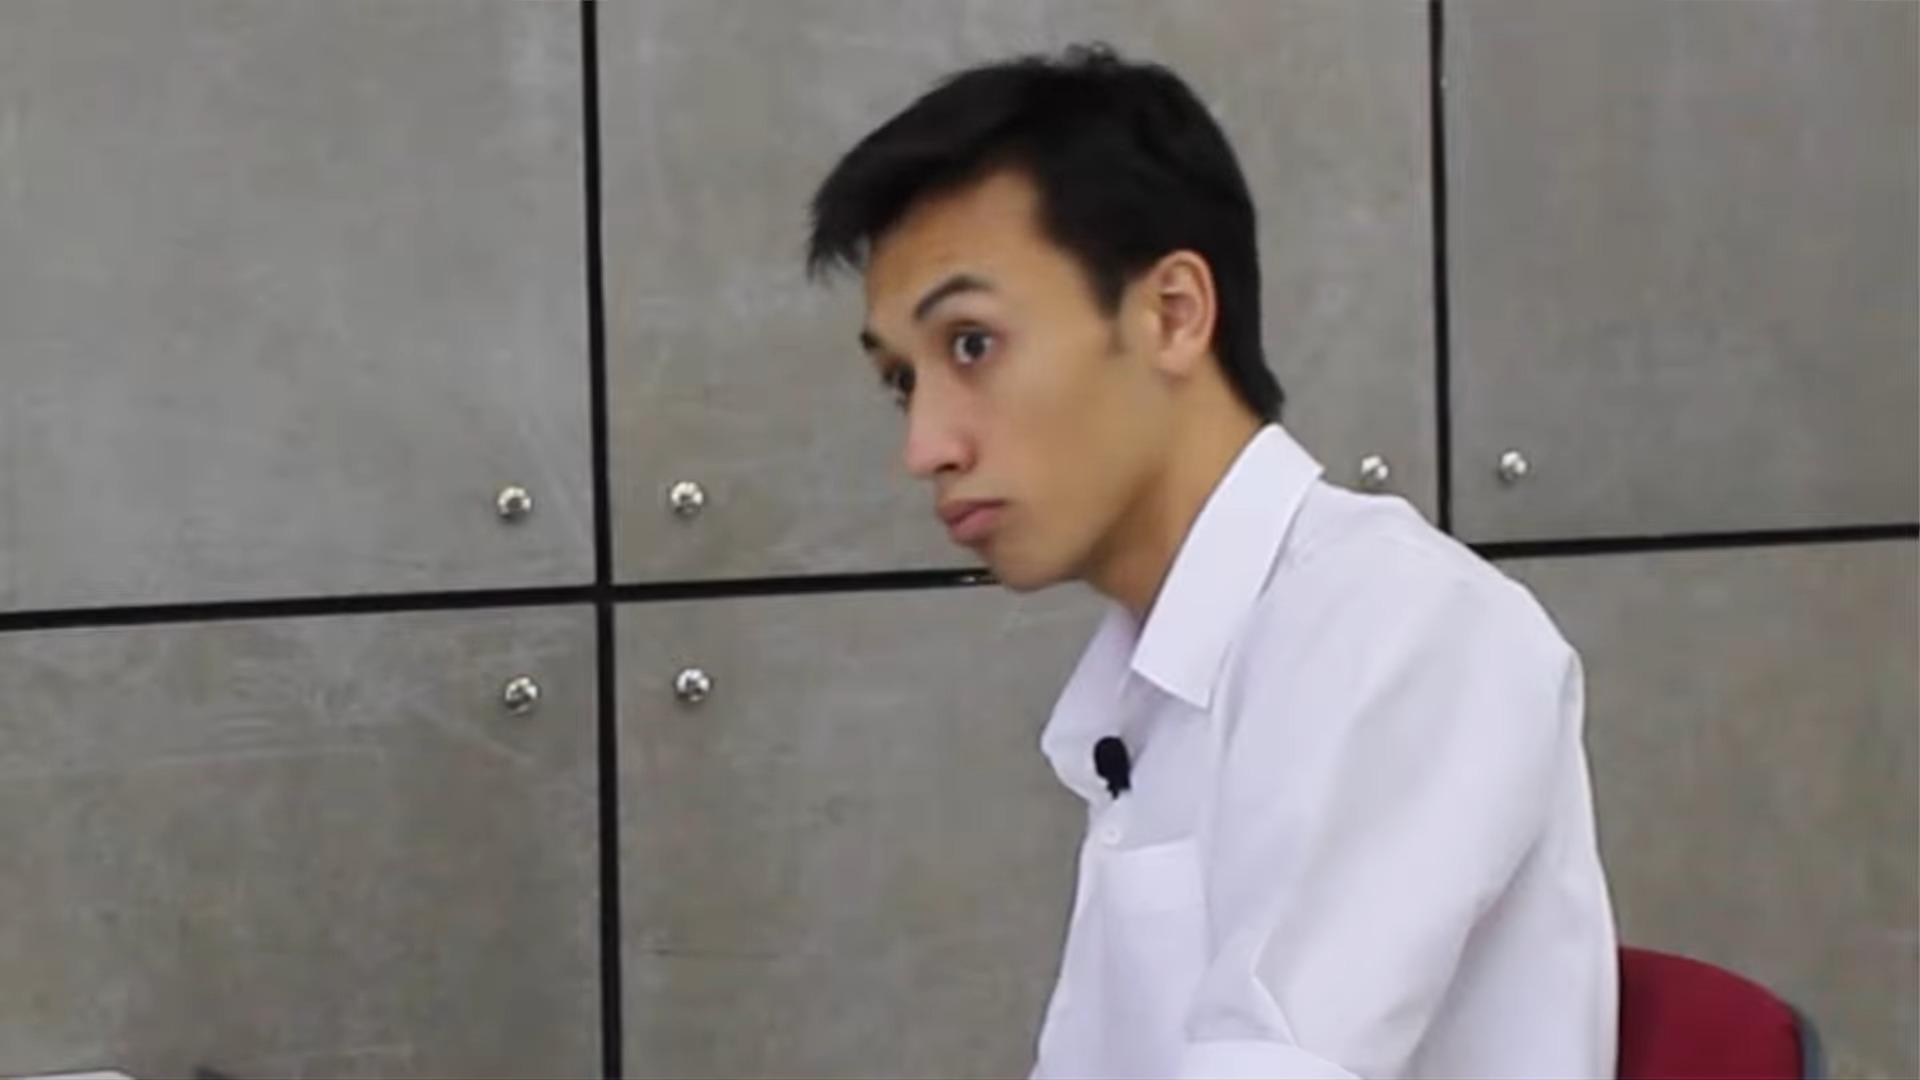cheating: (745, 13, 1691, 1080)
